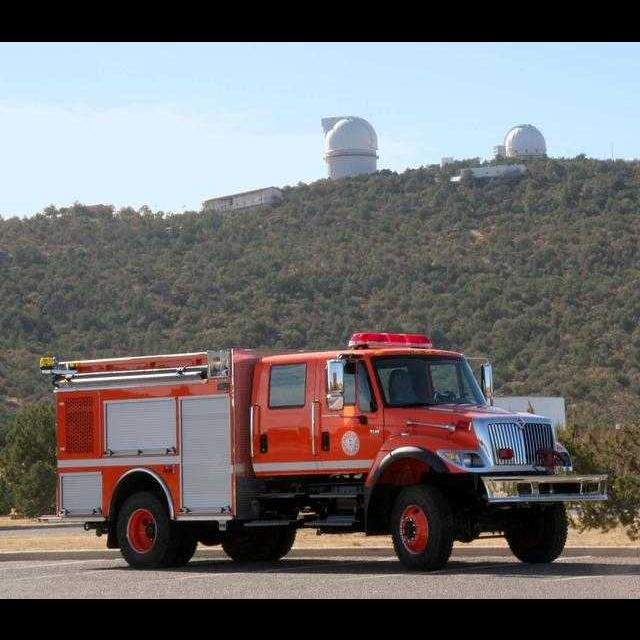emergency: (39, 332, 609, 570)
